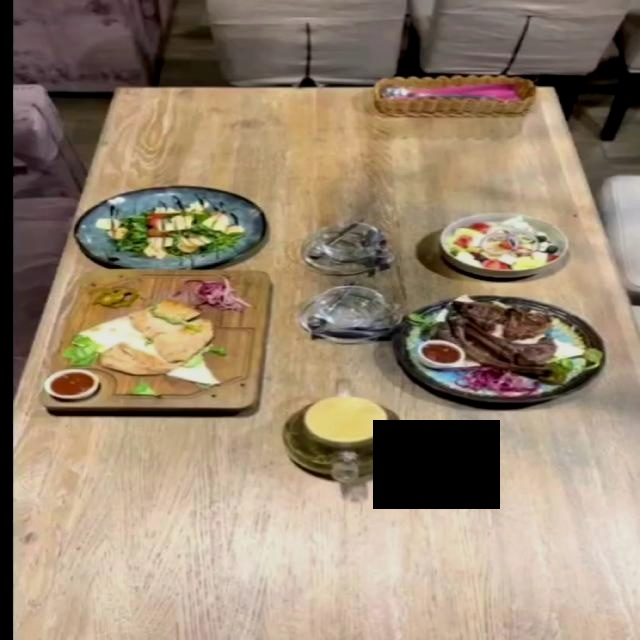meat: (43, 267, 271, 414), (390, 294, 605, 404)
salad: (71, 185, 263, 267), (436, 211, 570, 276)
tea: (280, 395, 409, 480)
